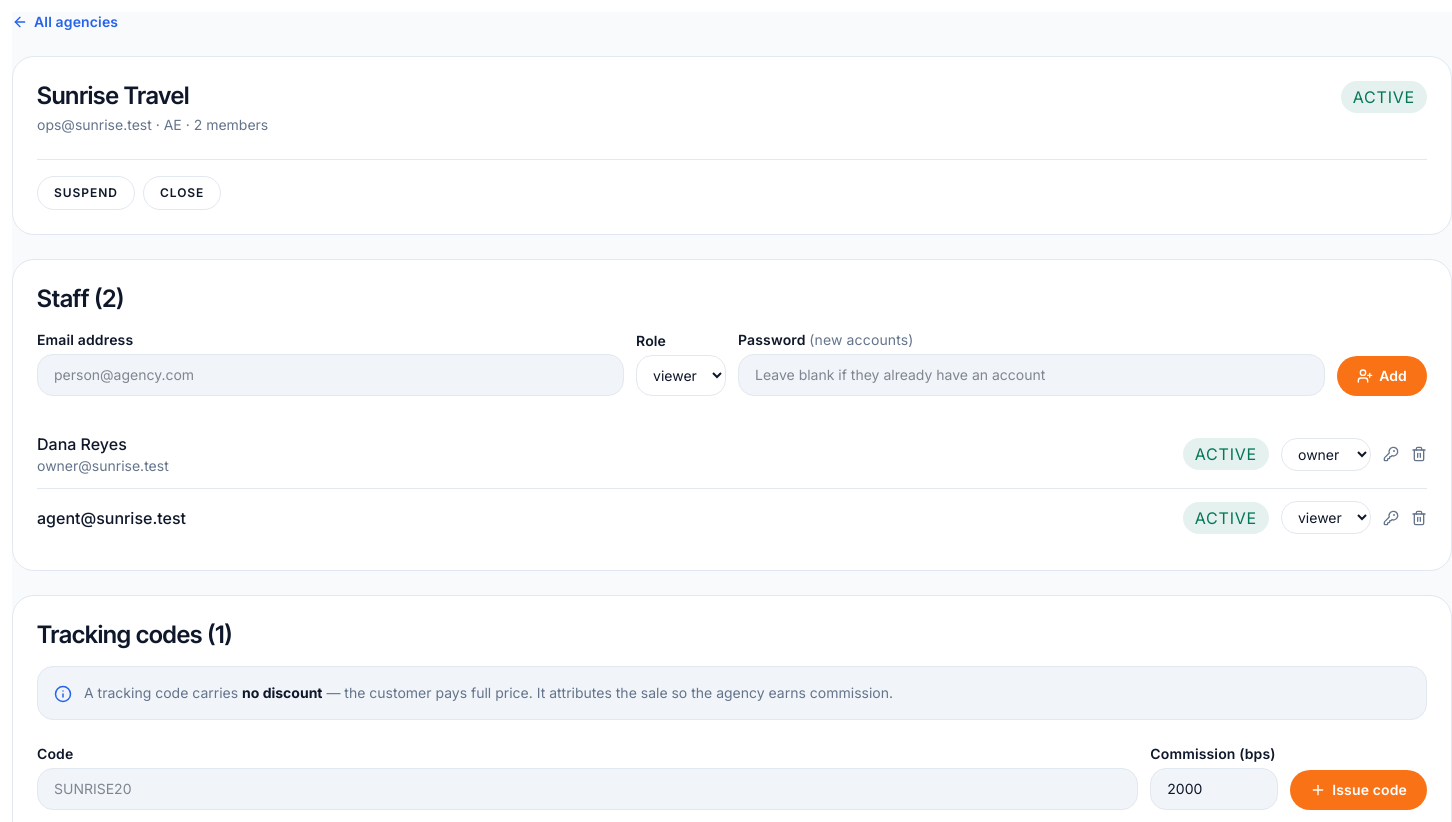
it: setting a member's password › says the password is not emailed and must be sent by hand
This screenshot has width=1452, height=822.
Expected: the 1st heading "Sunrise Travel" is shown, [37,81,189,110]
Click the button named "set password for agent@sunrise.test" at (1391, 518), box [1383,510,1399,526]
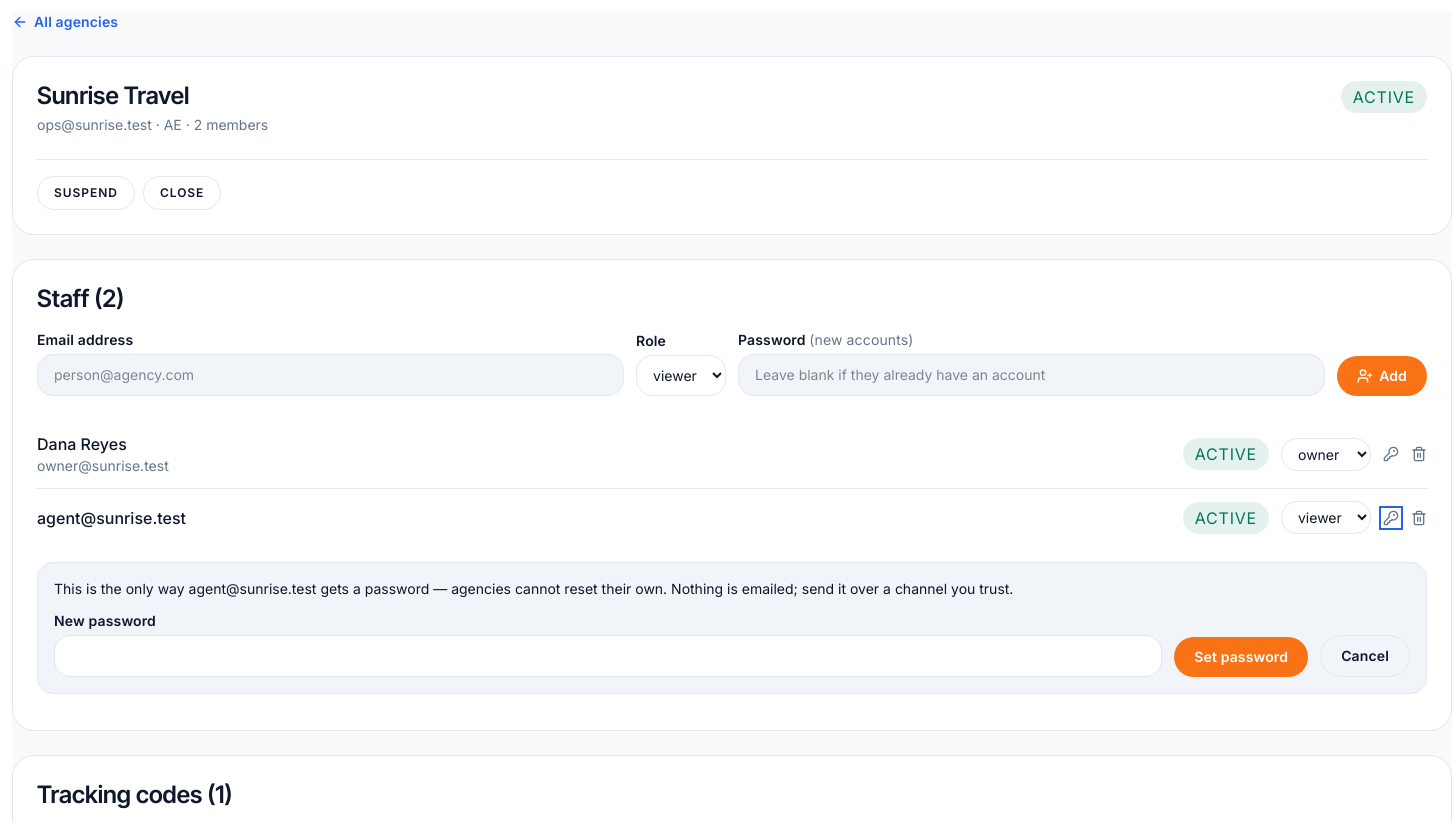
Expected: the 11th text "cannot reset their own" is shown, [316,580,1013,597]
